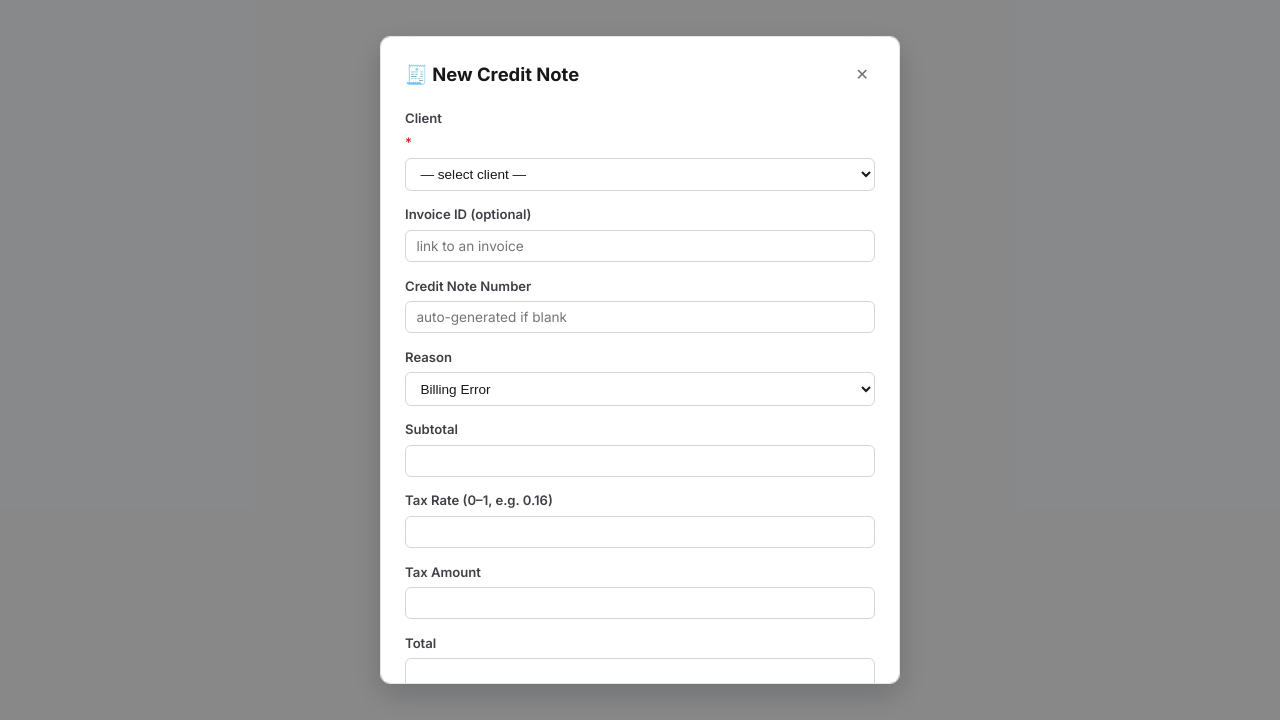
Scenario: CreditNoteList page › splits a PARTIAL credit at the invoice rate (j44)
Type "5" into the number field with placeholder "link to an invoice" at (640, 246), box [405,230,875,262]
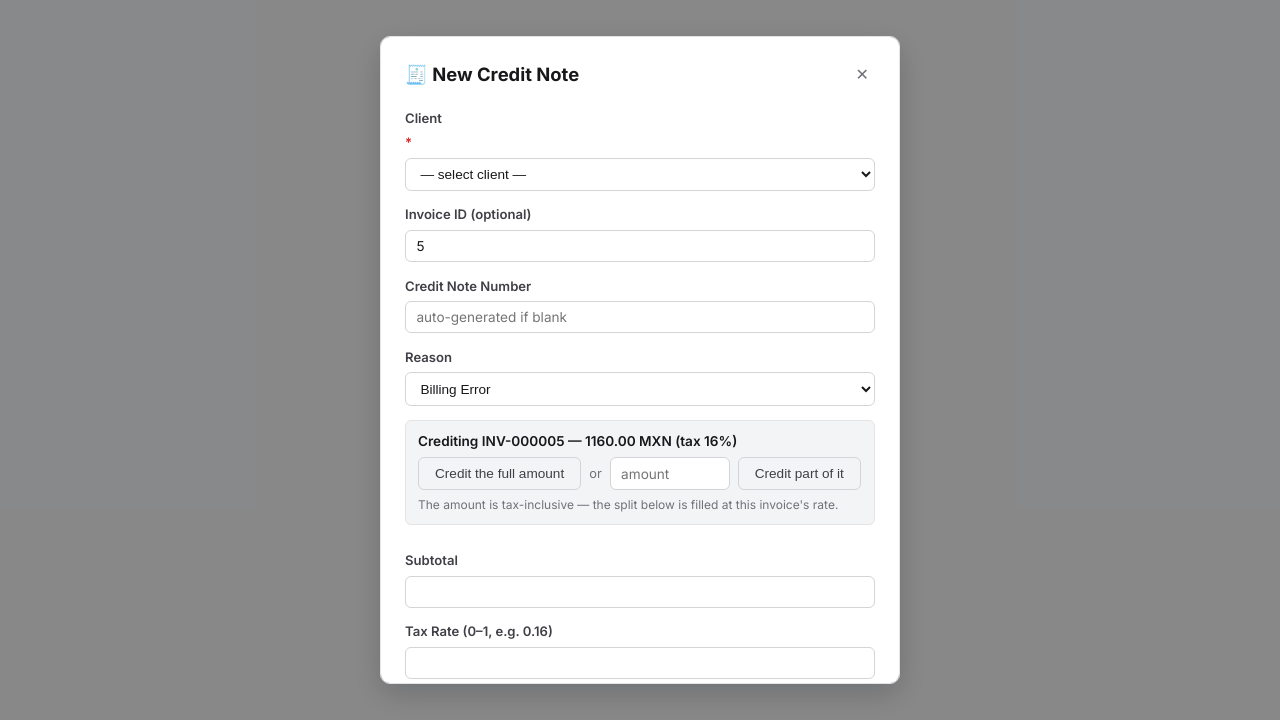
Result: the text "Crediting INV-000005 — 1160.00 MXN (tax 16%)" is shown at [418,433,737,449]
Type "580" into the number field named "Partial credit amount" at (670, 474), box [610,457,730,490]
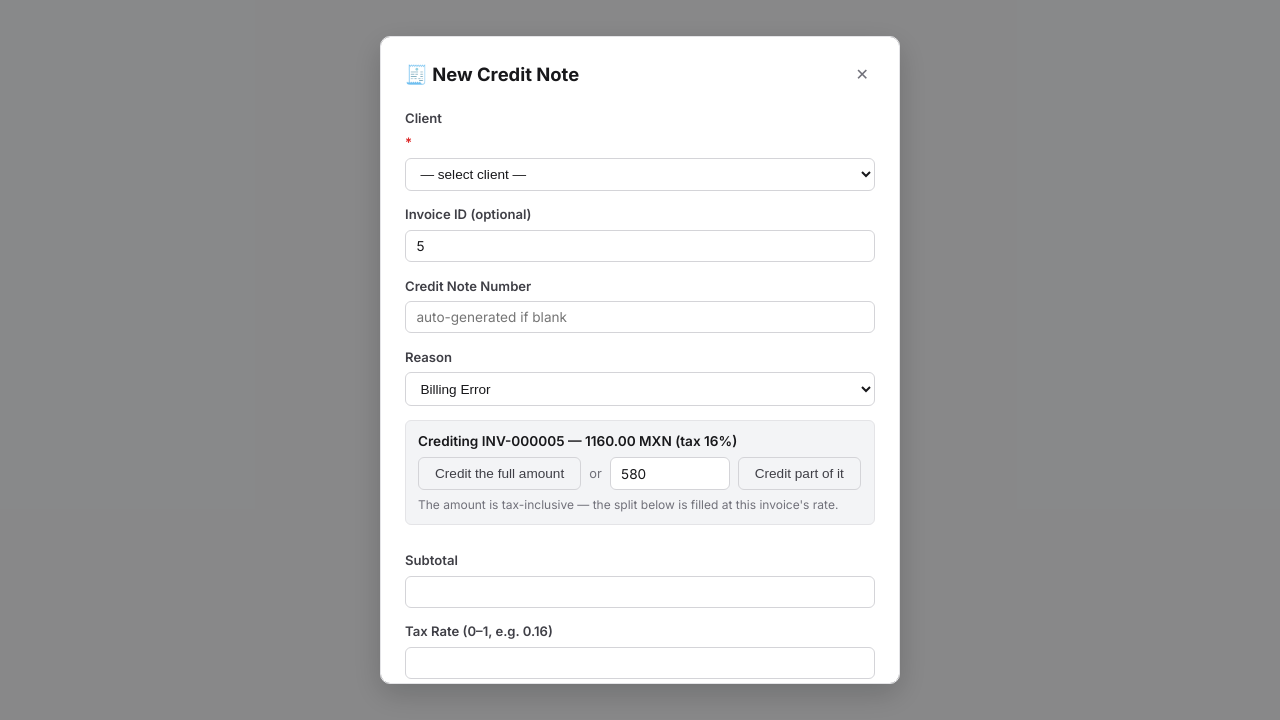
Click the button "Credit part of it" at (799, 474), box [738,457,861,490]
(page scrolled)
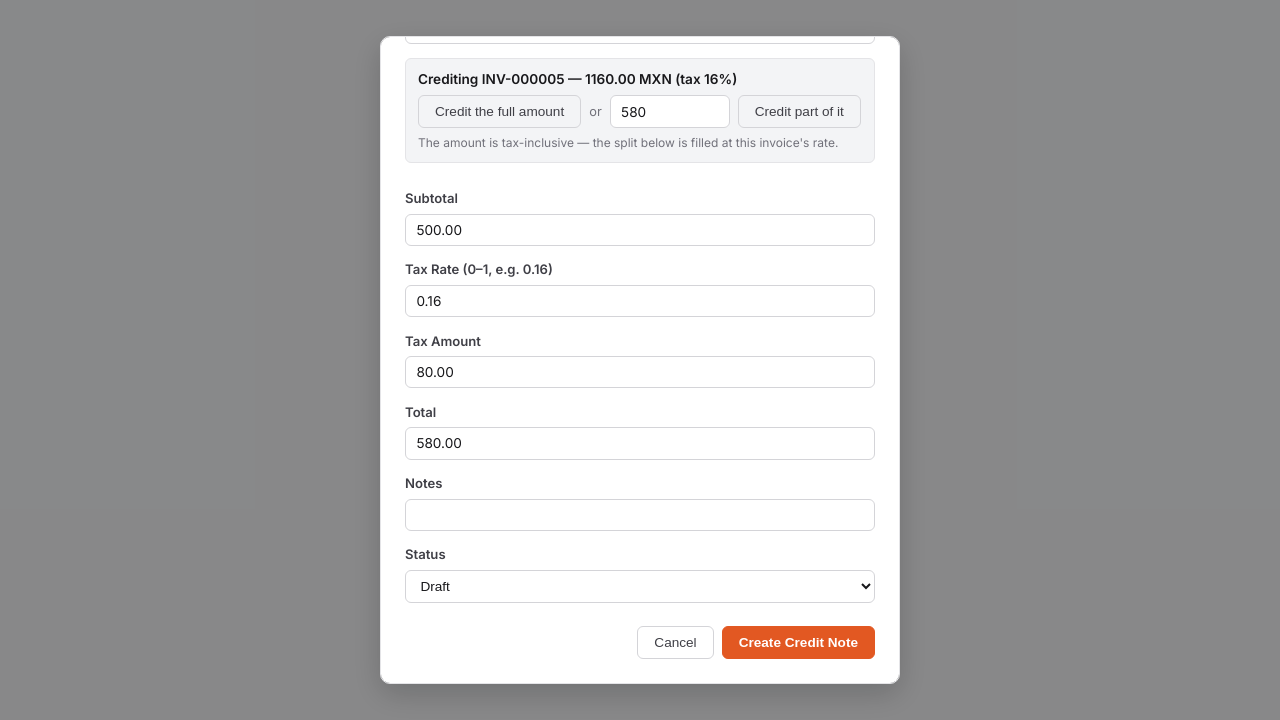
Result: the number field labelled "Subtotal" holds "500.00" at [405,214,875,246]
Result: the number field labelled "Tax Amount" holds "80.00" at [405,356,875,388]
Result: the number field labelled "Total" holds "580.00" at [405,427,875,460]
